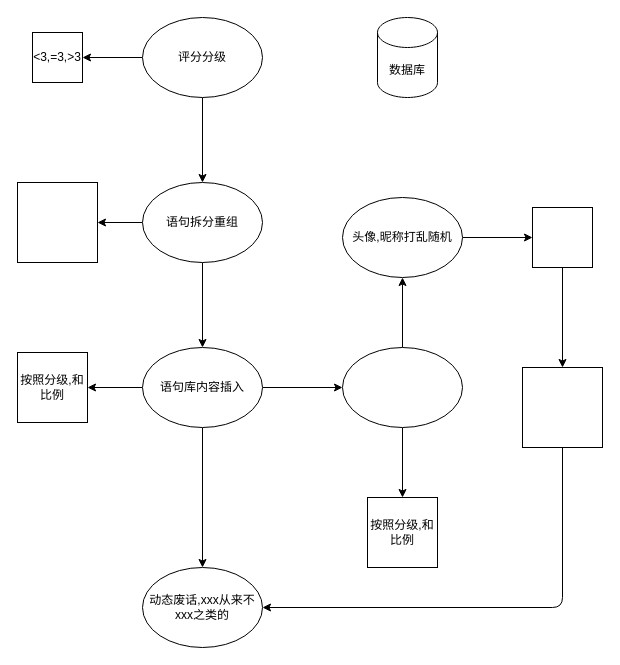
This 620x665 diagram has some shape labels left out. The centre of each missing label's shape, as x and y in pixels:
"句子长度大于4,2个一组前后调换,按照比例来" goes at [57,222].
"头像全随机" goes at [562,237].
"用户名分为姓和名 随机长度从姓和名库里面随机" goes at [562,407].
"表情符号插入" goes at [402,387].
